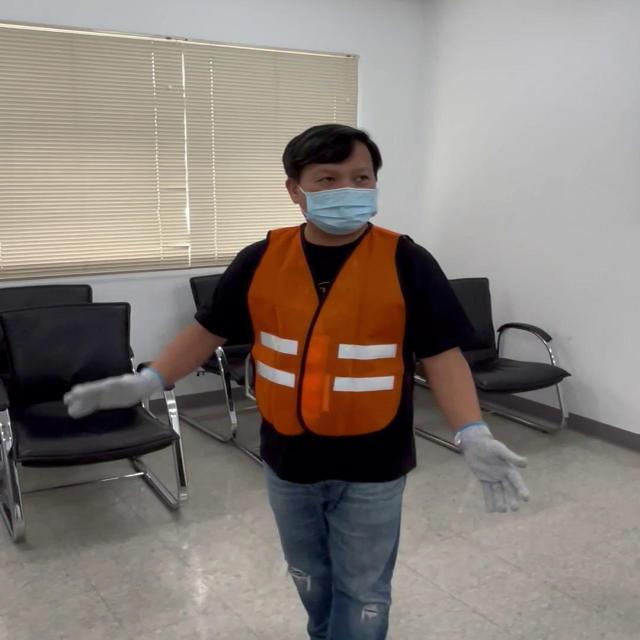gloved_hand: (67, 366, 178, 424), (455, 426, 527, 512)
